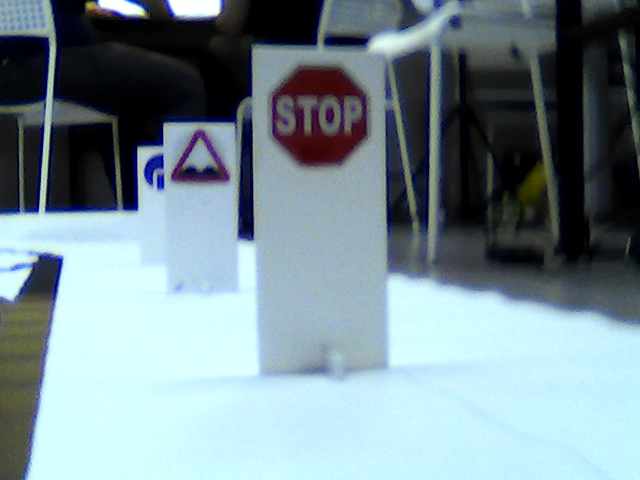Nerov: (172, 128, 230, 184)
Stop: (268, 64, 371, 167)
